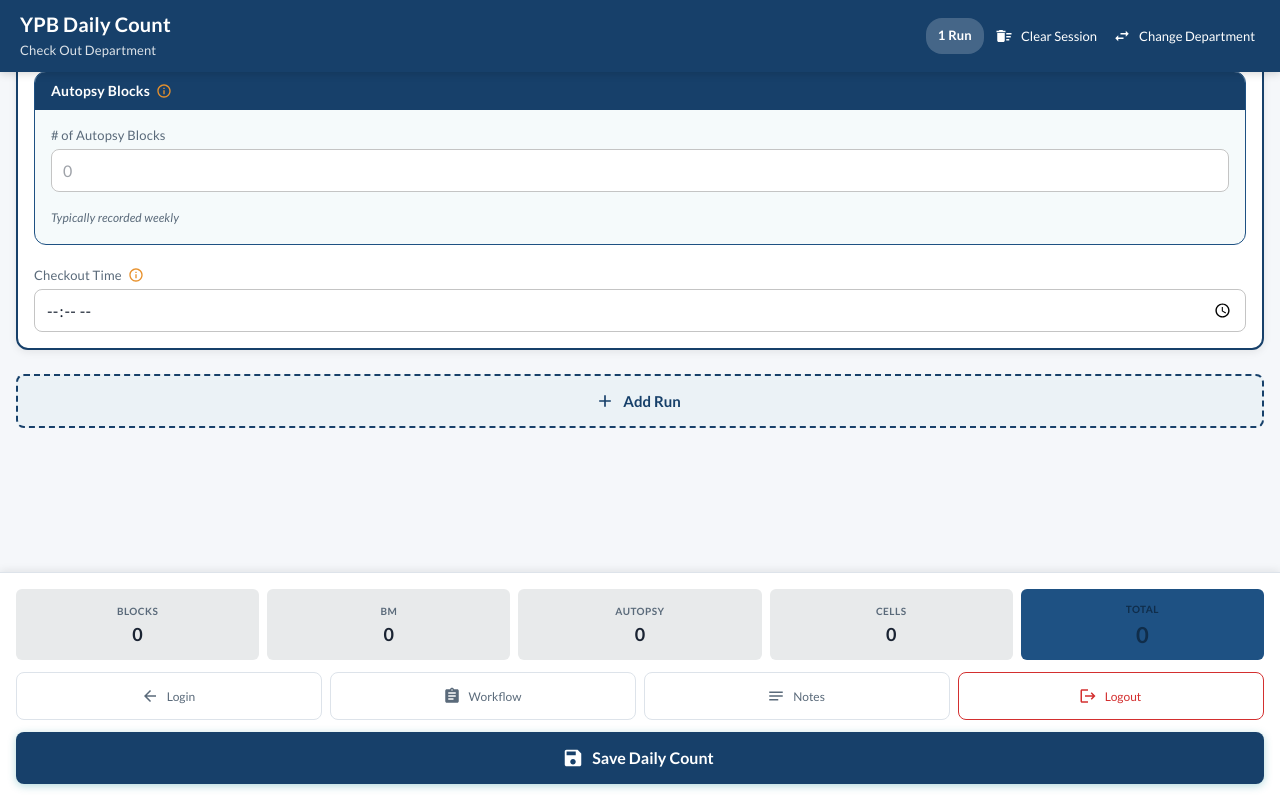
Test: YPBDailyCountForm › Delete Run › should remove run from list
The width and height of the screenshot is (1280, 800).
(page scrolled)
Note: Add a second run
Click the button "Add Run": [640, 401] box [16,374,1264,428]
(page scrolled)
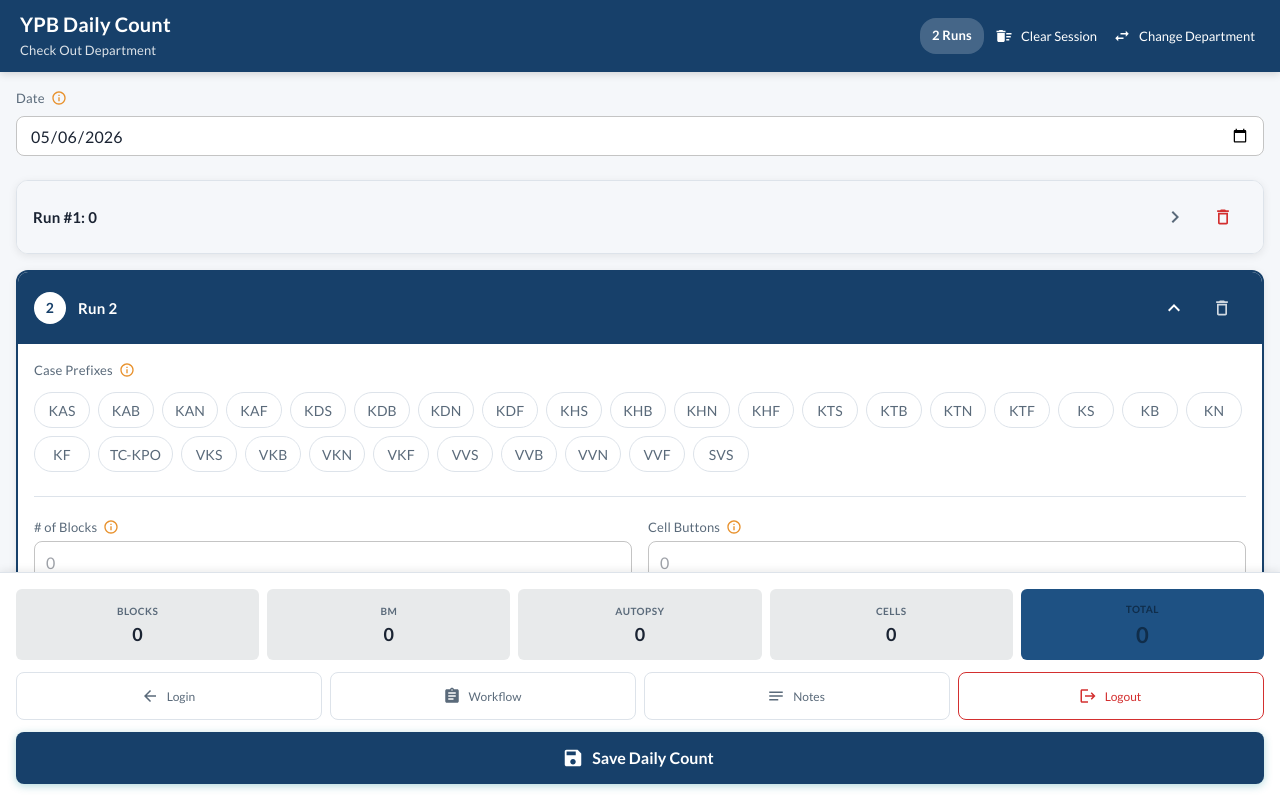
Result: the text "2 Runs" is shown at [932,28,972,44]
Note: Delete the second run
Click the button named "Delete Run": [1222, 308] box [1198,284,1246,332]
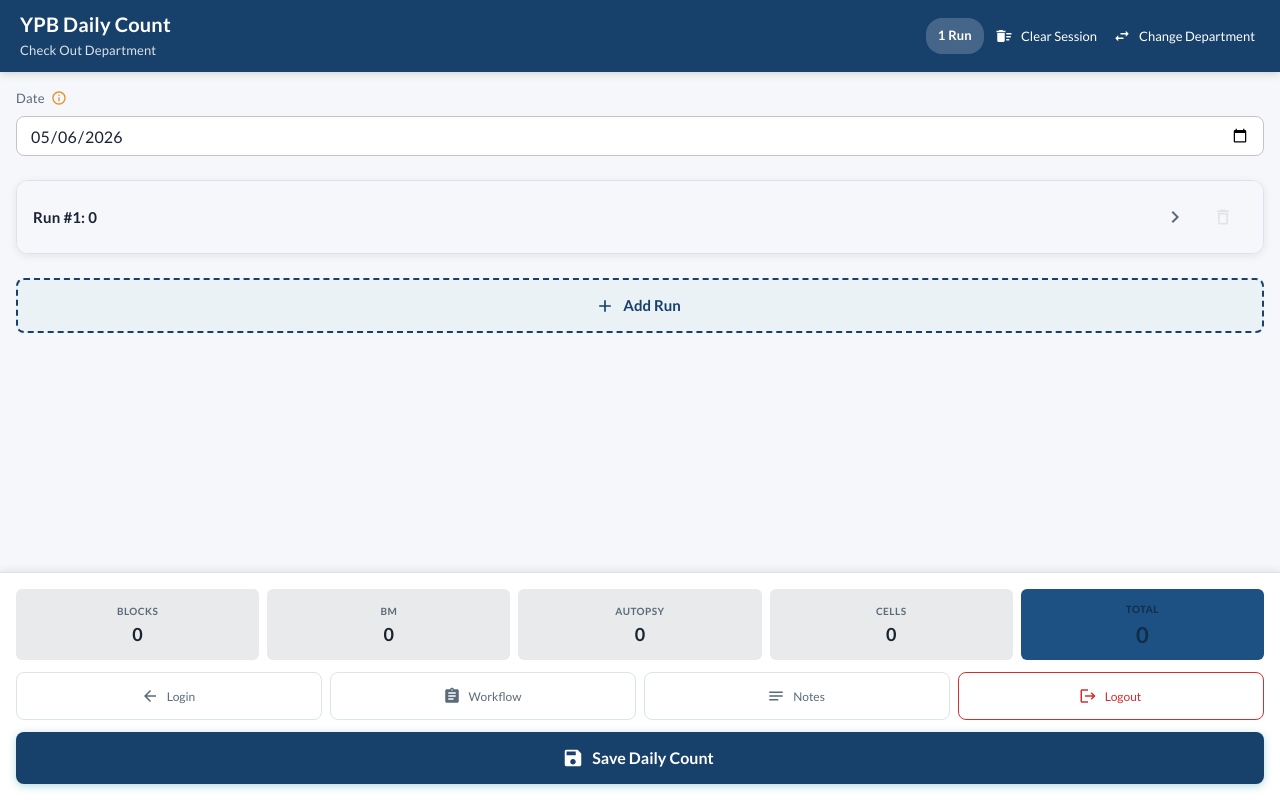
Result: the text "1 Run" is shown at [938,28,972,44]
